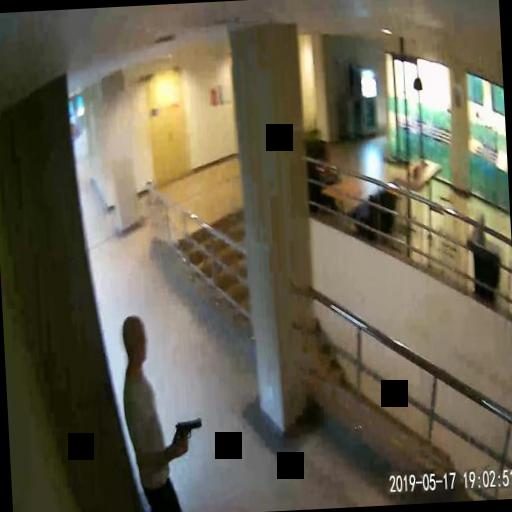Handgun: (173, 418, 202, 452)
